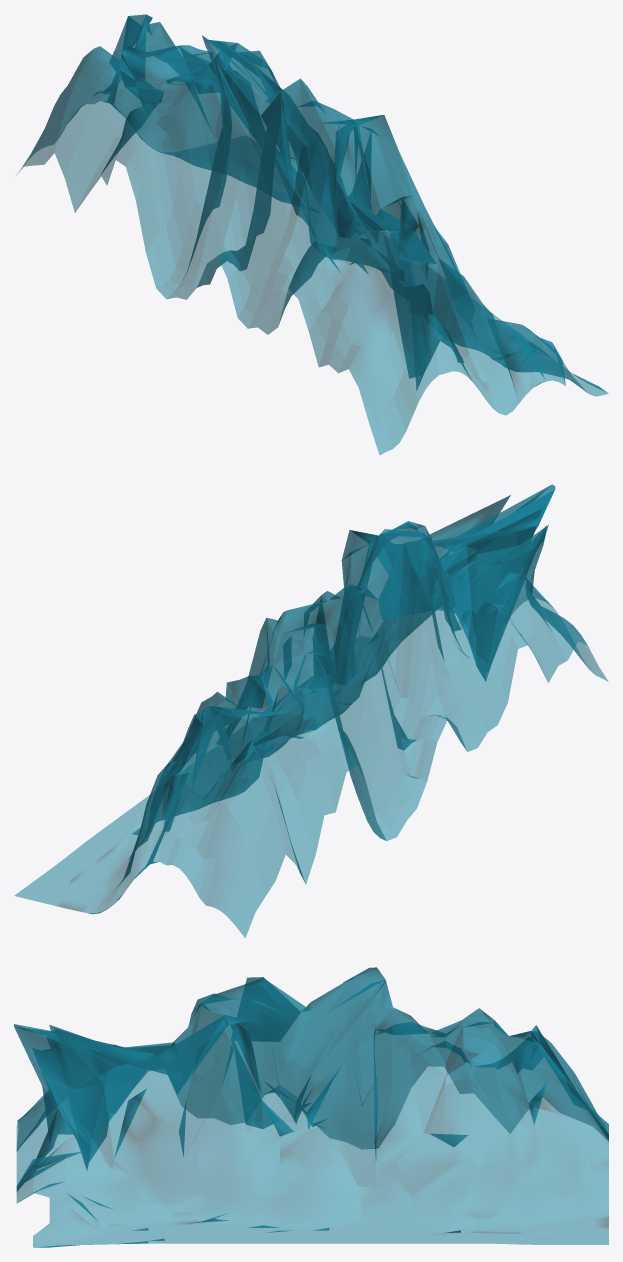
The model's file is glacier.fbx.
3 views of the same model, one above another, from view 1: azimuth 30°, elevation 25°; view 2: azimuth 150°, elevation 25°; view 3: azimuth 270°, elevation 25° (orthographic). The views are drawn at different scales.
Visible parts, largest first — view 1: Grid; view 2: Grid; view 3: Grid.
Part boxes in pixels (x1,y1,x2,y2): Grid: [17, 14, 608, 454]; Grid: [14, 484, 608, 937]; Grid: [14, 967, 608, 1247].
Size of the model in its own units: 189 by 190 by 502.
